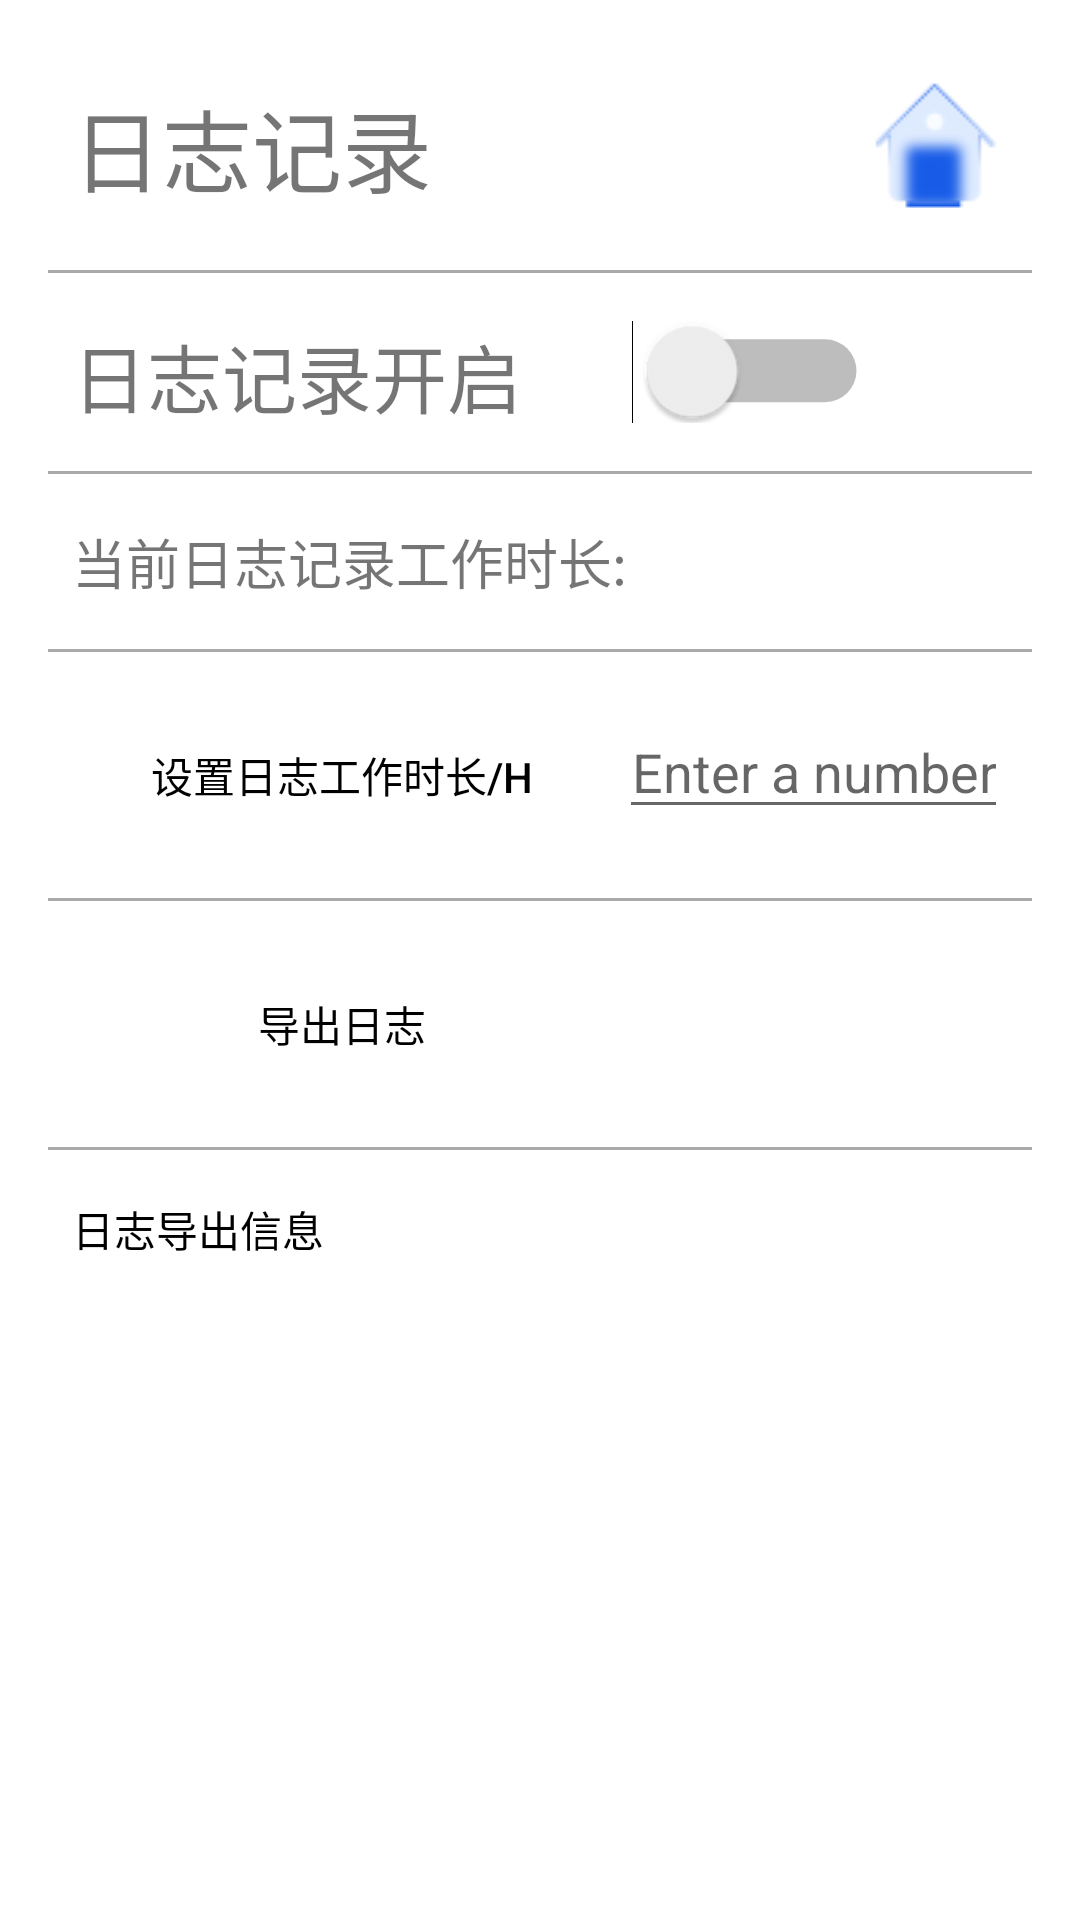

Where to tap for icons on this 1080 × 1920 app screen, as (x=x, y=y):
主界面: (x=935, y=145)
